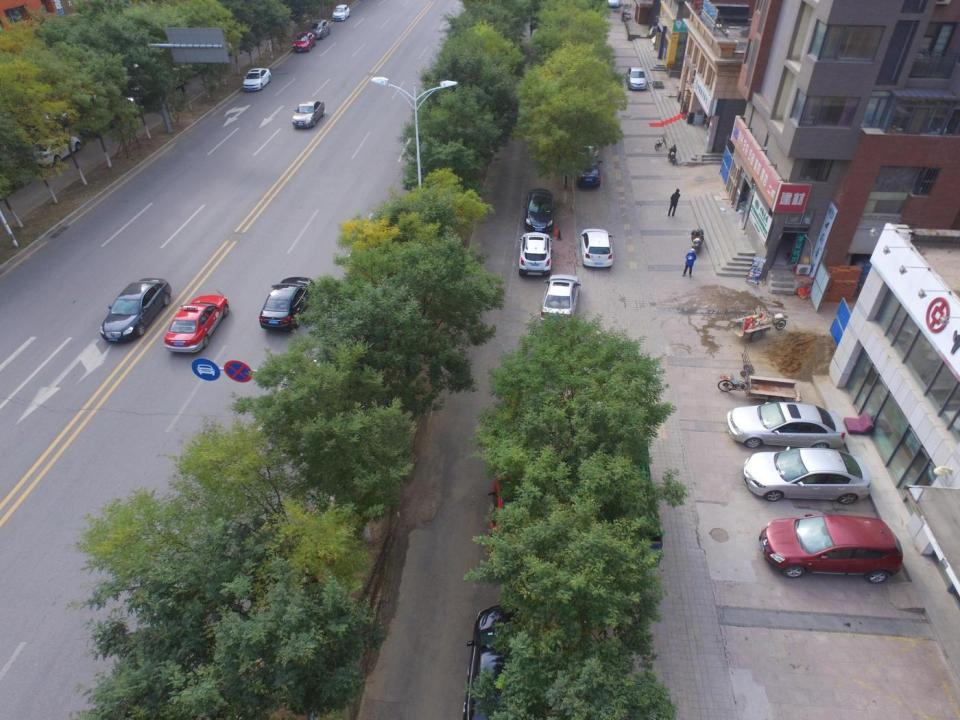car: (460, 605, 567, 720), (761, 515, 903, 584), (490, 469, 560, 575), (744, 448, 872, 505), (726, 404, 847, 452), (99, 276, 171, 344), (164, 295, 229, 352), (260, 274, 315, 330), (541, 277, 582, 327), (31, 132, 79, 170), (580, 228, 615, 271), (519, 234, 553, 277), (526, 189, 555, 233), (572, 158, 602, 192), (291, 101, 326, 129), (572, 124, 600, 158), (242, 69, 272, 91), (293, 32, 317, 54), (625, 66, 646, 91), (307, 20, 329, 39), (331, 4, 350, 22)
